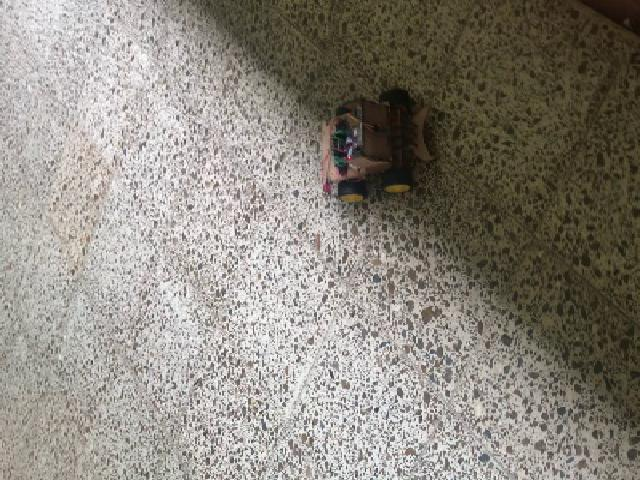Robot: (322, 88, 437, 202)
